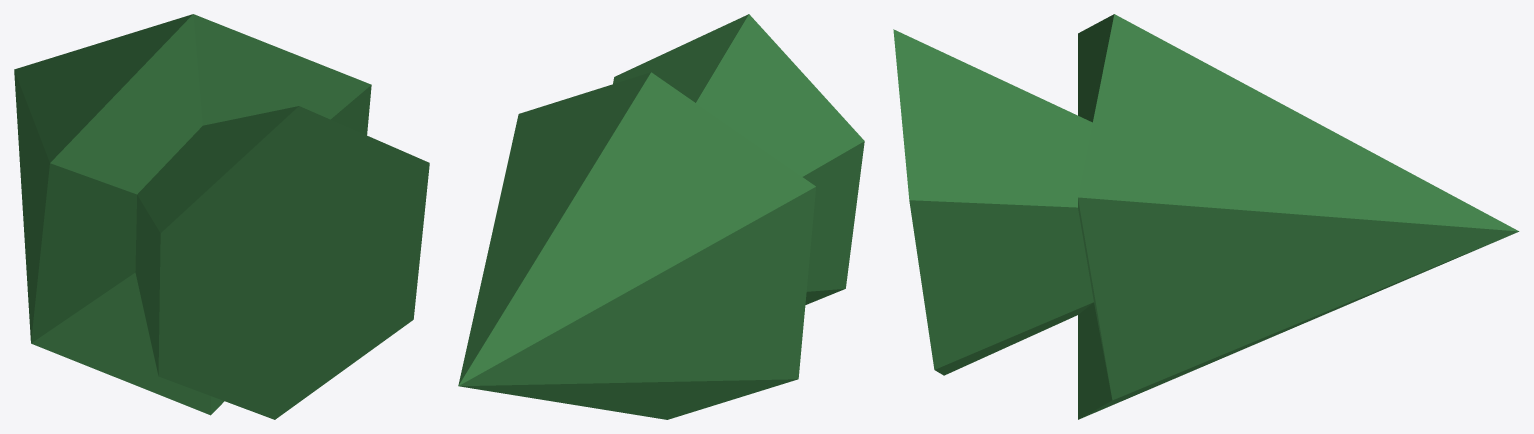
The model's file is firDestroy3.fbx.
The picture shows the model from 3 angles, left to right: view 1: azimuth 30°, elevation 25°; view 2: azimuth 150°, elevation 25°; view 3: azimuth 270°, elevation 25°; orthographic projection. The views are drawn at different scales.
Visible parts, largest first — view 1: Цилиндр; view 2: Цилиндр; view 3: Цилиндр.
Boxes of the visible parts, left/top/right/bottom form: Цилиндр: left=14, top=14, right=429, bottom=419; Цилиндр: left=458, top=14, right=864, bottom=419; Цилиндр: left=893, top=14, right=1519, bottom=419.
Size of the model in its own units: 132 by 152 by 213.
